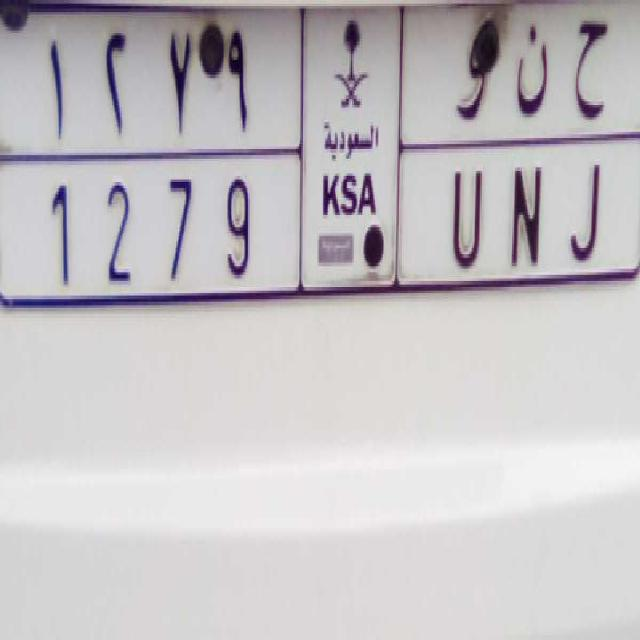license_plate: (17, 140, 617, 310)
